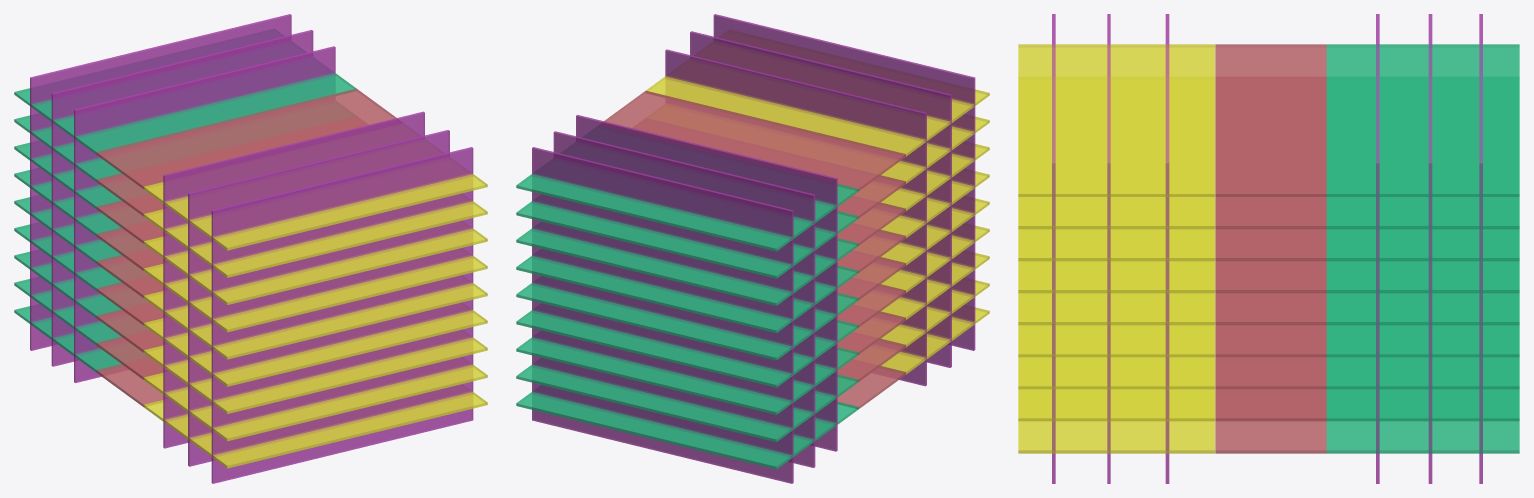
Rendered from bottle.glb.
The picture shows the model from 3 angles, left to right: view 1: azimuth 30°, elevation 25°; view 2: azimuth 150°, elevation 25°; view 3: azimuth 270°, elevation 25°; orthographic projection. The views are drawn at different scales.
Parts seen in each view (by area): view 1: Cube.002, Cube.021, Cube.047, Cube.022, Cube.024, Cube.023, Cube.003, Cube.012, Cube.019, Cube.017, Cube.016, Cube.001 (+21 smaller); view 2: Cube.003, Cube.022, Cube.047, Cube.024, Cube.002, Cube.021, Cube.023, Cube.001, Cube.011, Cube.007, Cube.004, Cube.010 (+21 smaller); view 3: Cube.001, Cube.012, Cube.047, Cube.020, Cube.019, Cube.018, Cube.017, Cube.016, Cube.015, Cube.014, Cube.013, Cube.004 (+21 smaller).
Part boxes in pixels (x1,y1,x2,y2): Cube.002: (211, 147, 473, 483); Cube.021: (74, 46, 335, 382); Cube.047: (96, 88, 396, 188); Cube.022: (163, 111, 424, 448); Cube.024: (188, 130, 449, 466); Cube.023: (51, 30, 313, 366); Cube.003: (30, 14, 291, 350); Cube.012: (14, 72, 356, 154); Cube.019: (143, 336, 487, 413); Cube.017: (143, 200, 487, 277); Cube.016: (143, 227, 487, 304); Cube.001: (143, 173, 487, 250); Cube.003: (532, 147, 793, 483); Cube.022: (665, 49, 926, 386); Cube.047: (604, 90, 905, 191); Cube.024: (690, 31, 951, 367); Cube.002: (713, 14, 975, 350); Cube.021: (576, 115, 837, 451); Cube.023: (553, 131, 815, 467); Cube.001: (646, 75, 989, 156); Cube.011: (516, 363, 858, 442); Cube.007: (516, 336, 858, 414); Cube.004: (516, 391, 858, 469); Cube.010: (516, 255, 858, 333); Cube.001: (1018, 44, 1214, 196); Cube.012: (1326, 44, 1519, 196); Cube.047: (1215, 44, 1326, 196); Cube.020: (1018, 389, 1214, 421); Cube.019: (1018, 357, 1214, 389); Cube.018: (1018, 325, 1214, 357); Cube.017: (1018, 197, 1214, 229); Cube.016: (1018, 229, 1214, 261); Cube.015: (1018, 261, 1214, 293); Cube.014: (1018, 293, 1214, 325); Cube.013: (1018, 421, 1214, 453); Cube.004: (1326, 421, 1519, 453).
Size of the model in its own units: 2 by 2 by 2.84.
